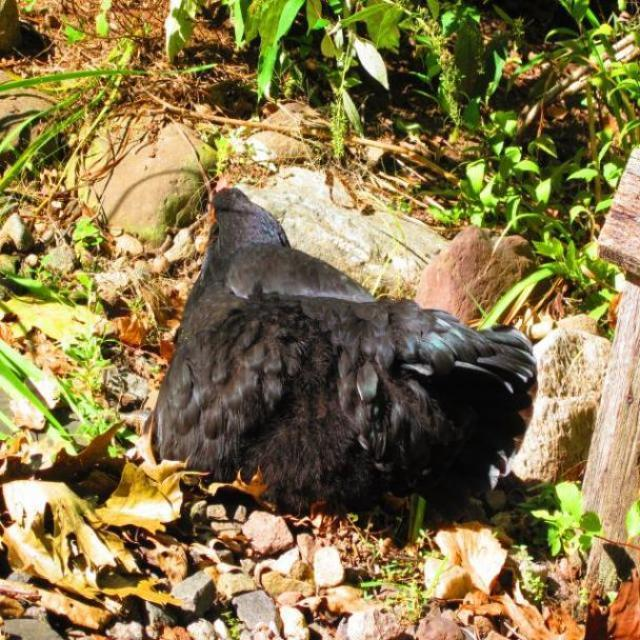Chicken: (149, 177, 533, 504)
